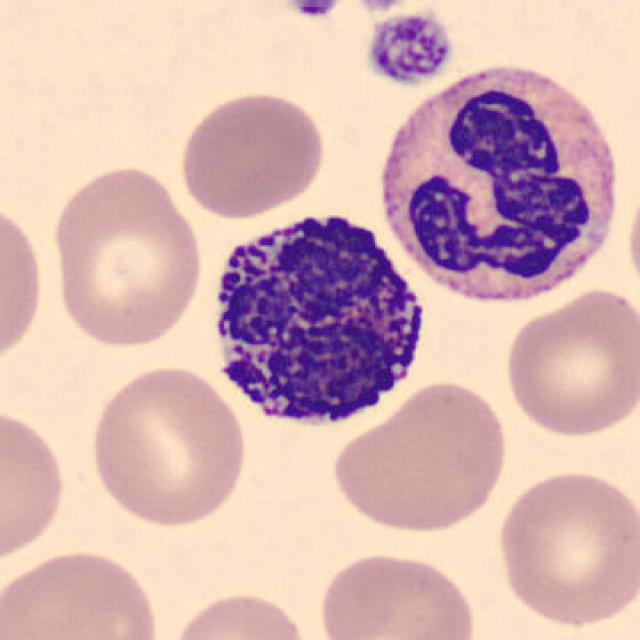Basophil: (199, 196, 437, 439)
Neutrophil: (368, 51, 626, 317)
Platelets: (359, 10, 459, 91), (282, 0, 346, 19), (354, 0, 409, 14)
RBC: (46, 160, 208, 352), (327, 376, 512, 536), (85, 360, 251, 530), (491, 464, 638, 629), (498, 284, 638, 441), (174, 86, 329, 222), (0, 545, 165, 640), (314, 546, 480, 640), (0, 400, 71, 571), (0, 194, 48, 375), (164, 585, 316, 640), (624, 168, 640, 302)
